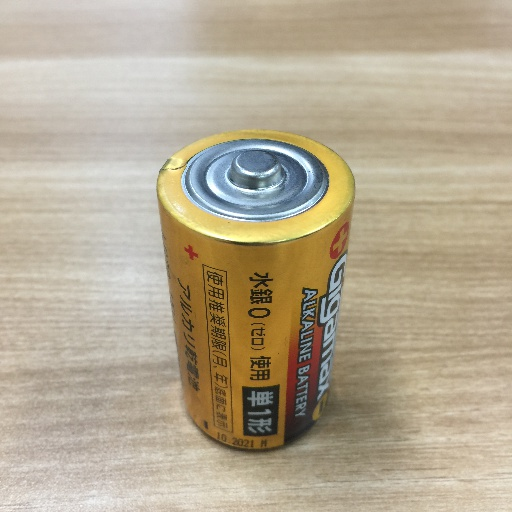Battery_0: (150, 112, 366, 458)
